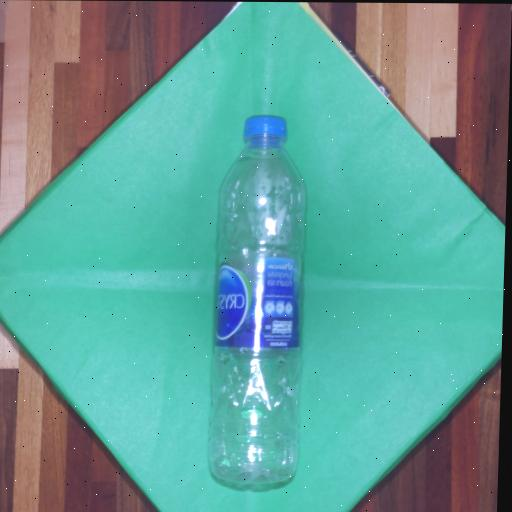bottle: (209, 116, 304, 484)
